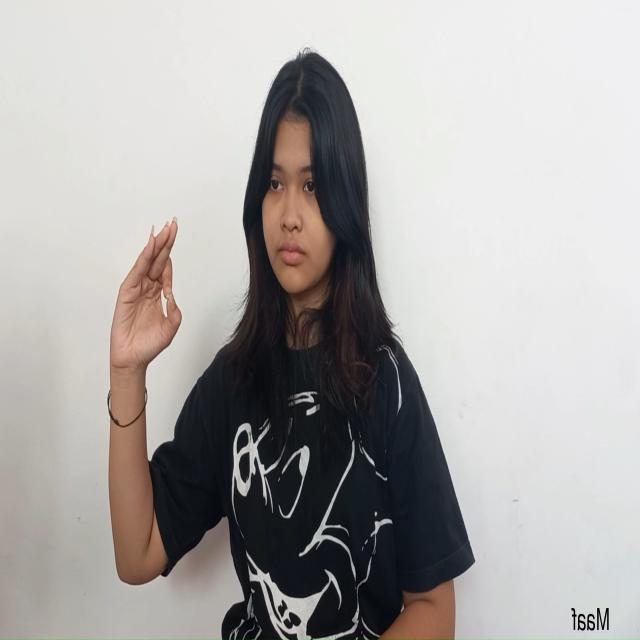Maaf -BISINDO-: (108, 213, 184, 390)
